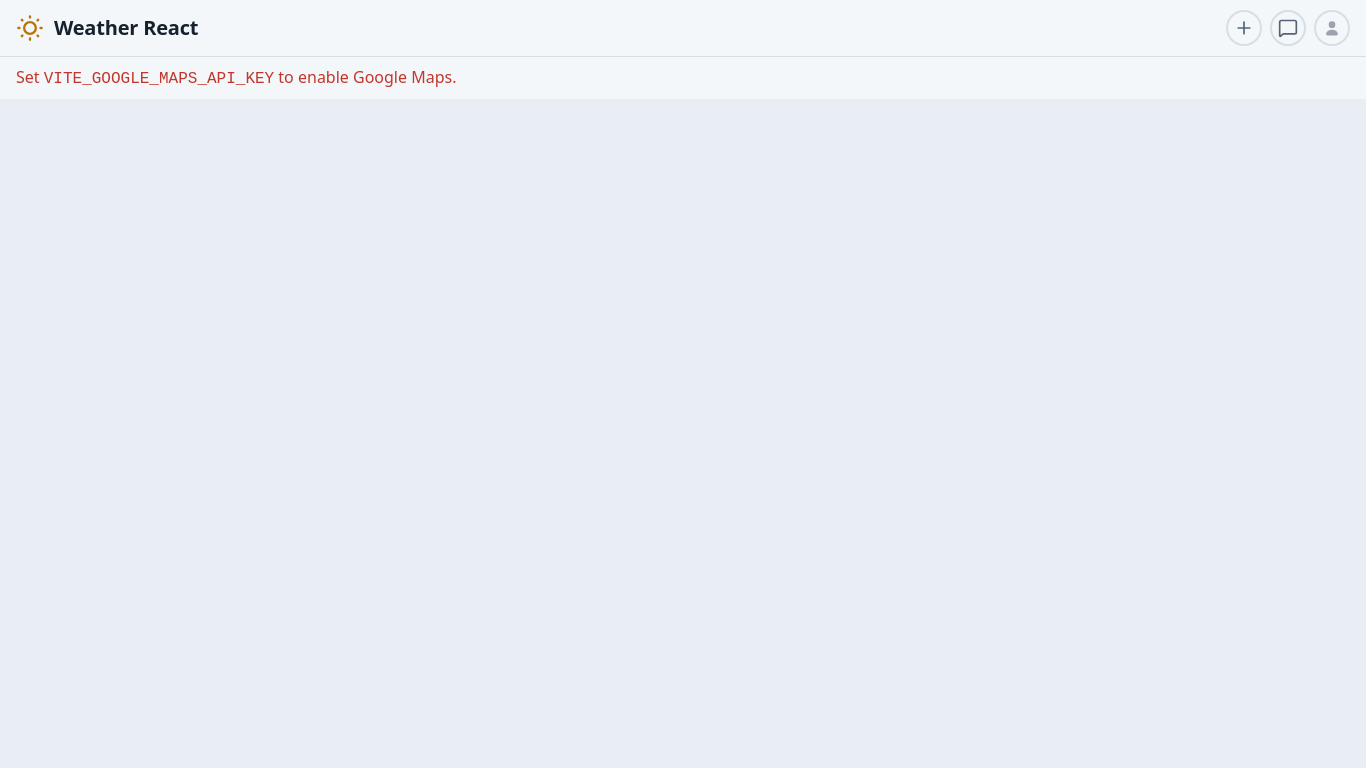
Test: AC1: sends go once each to /Chat5a/messages with the default gate fields and the session id
Click the button named "Open chat" at (1288, 28), box [1270,10,1306,46]
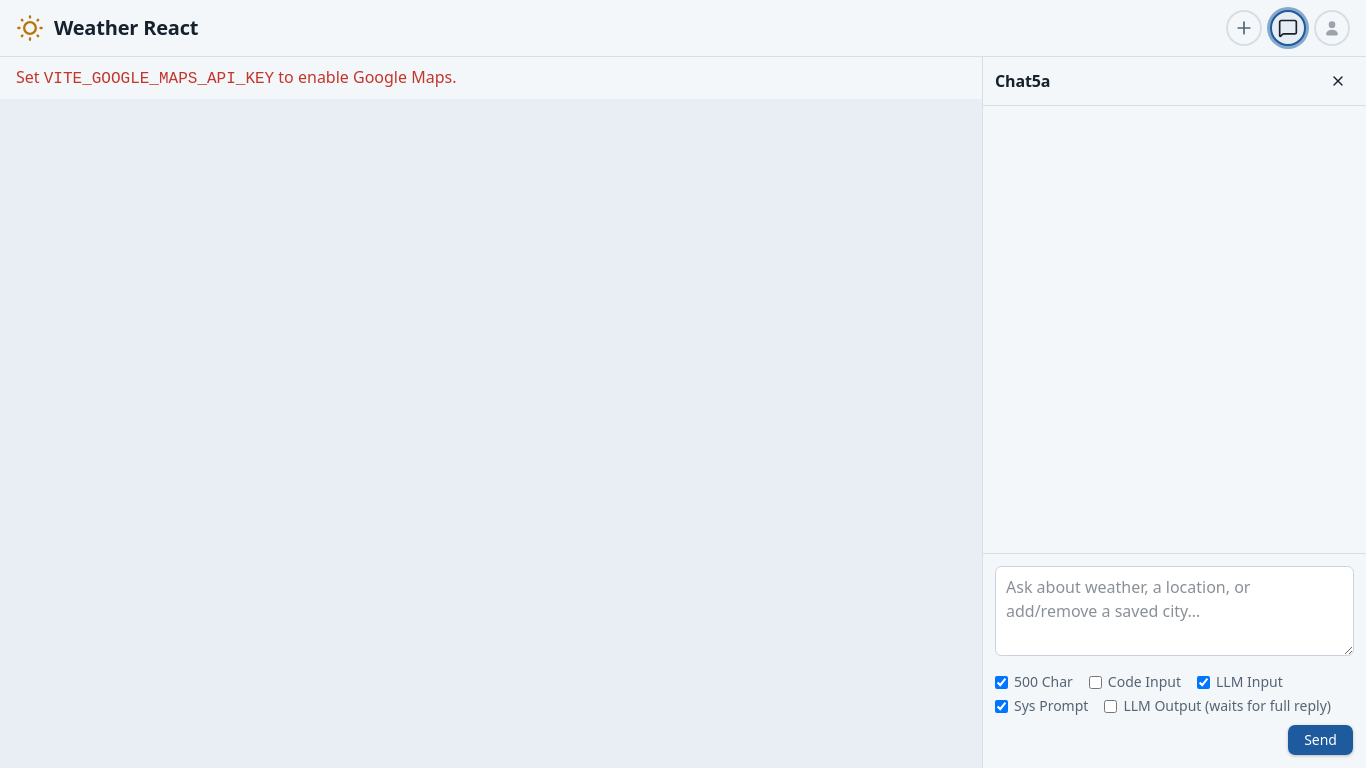
Check: the element "Chat5a" is shown, box [982,57,1365,767]
Type "Add Nashville" into the text box at (1174, 611), box [995,566,1354,656]
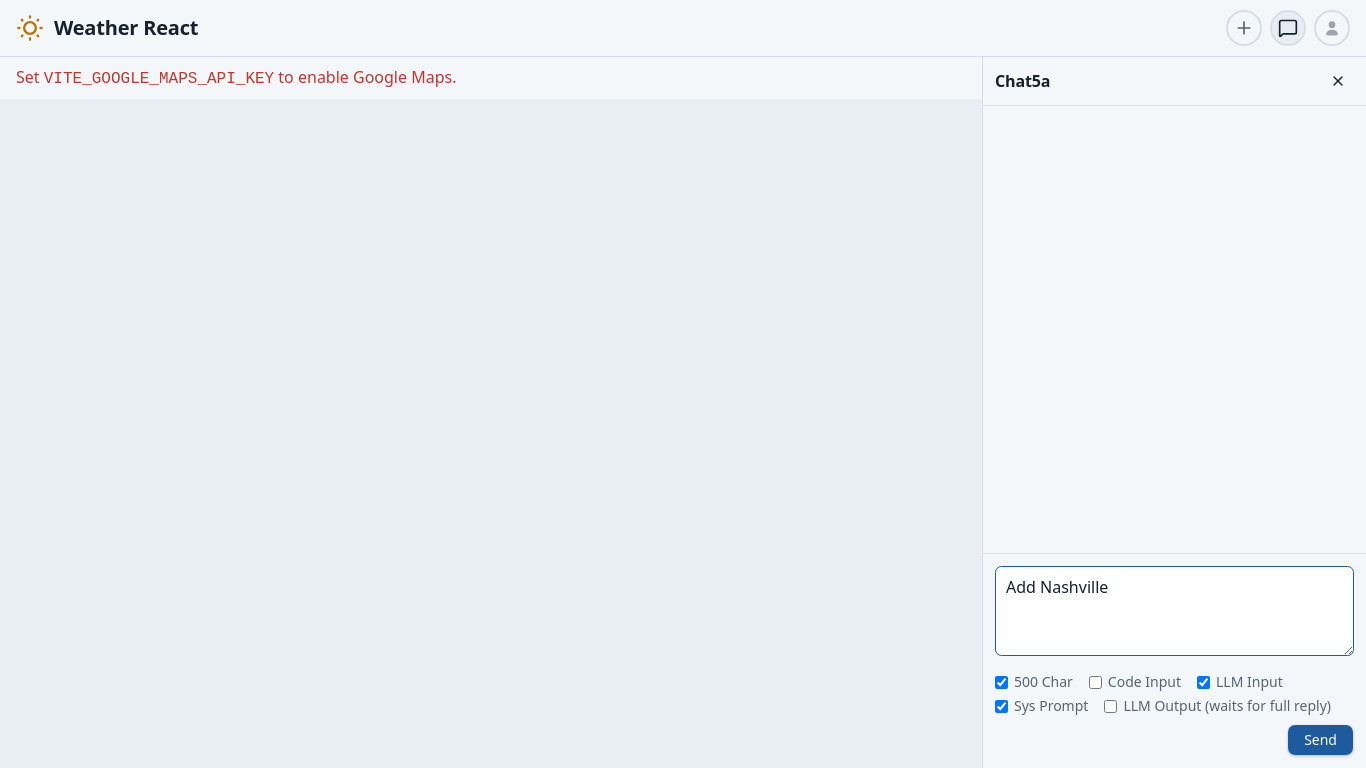
Click the button "Send" at (1321, 740), box [1287,724,1354,756]
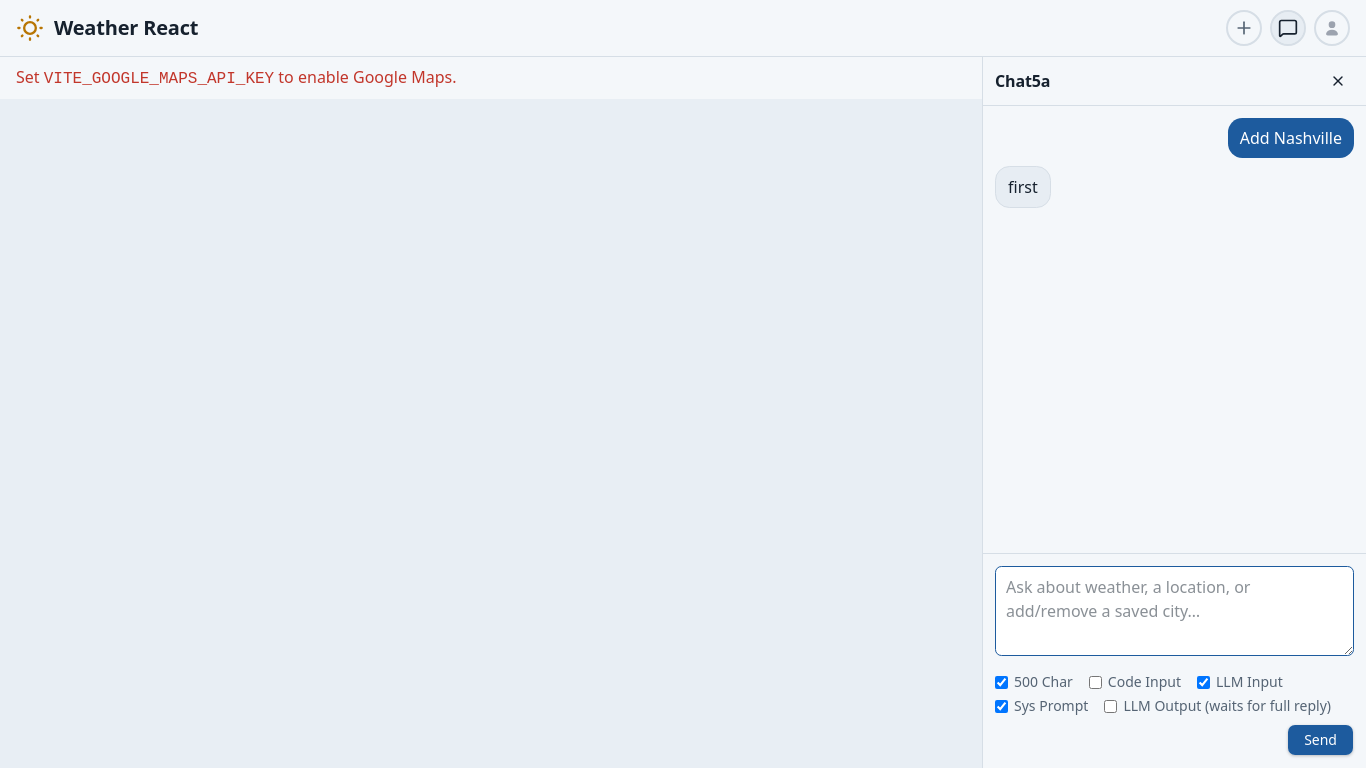
Check: the text "first" is shown, box [1008,175,1038,199]
Type "Remove Denver" into the text box at (1174, 611), box [995,566,1354,656]
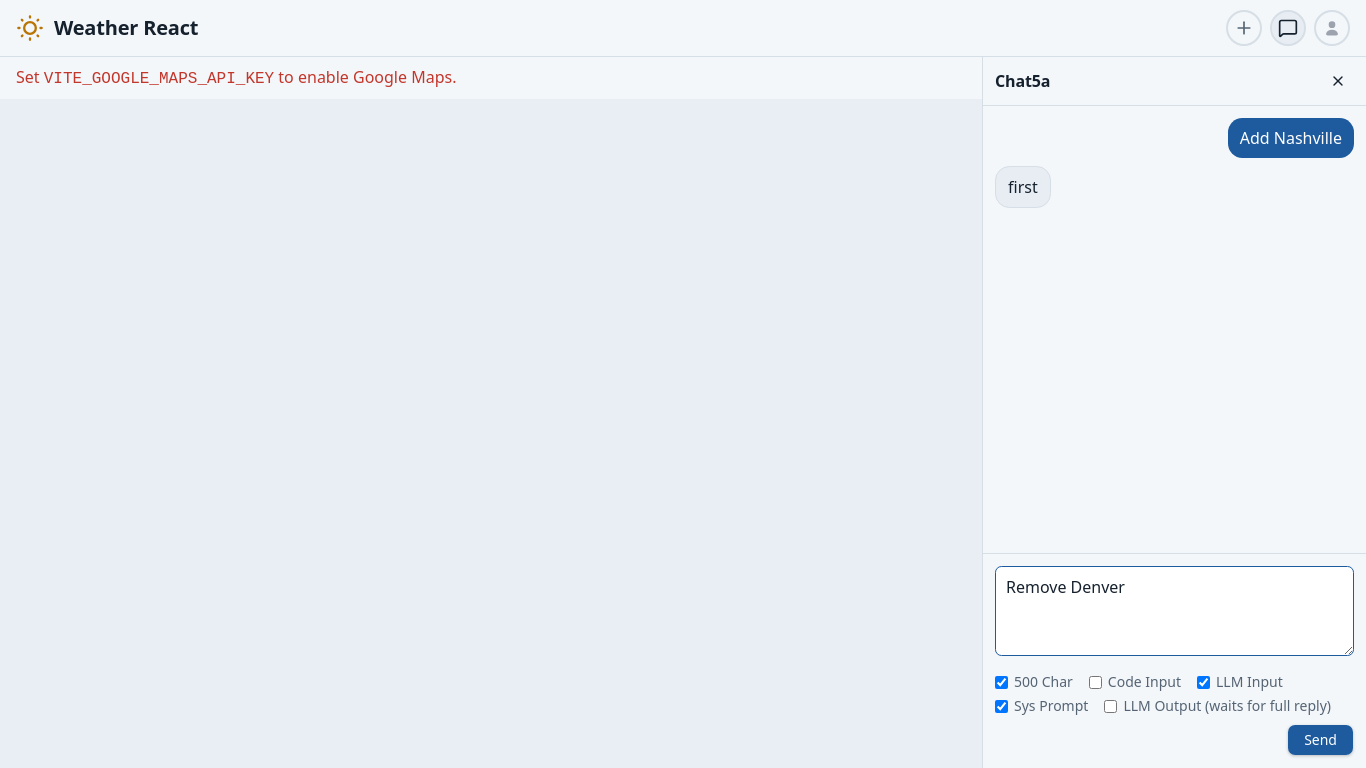
Click the button "Send" at (1321, 740), box [1287,724,1354,756]
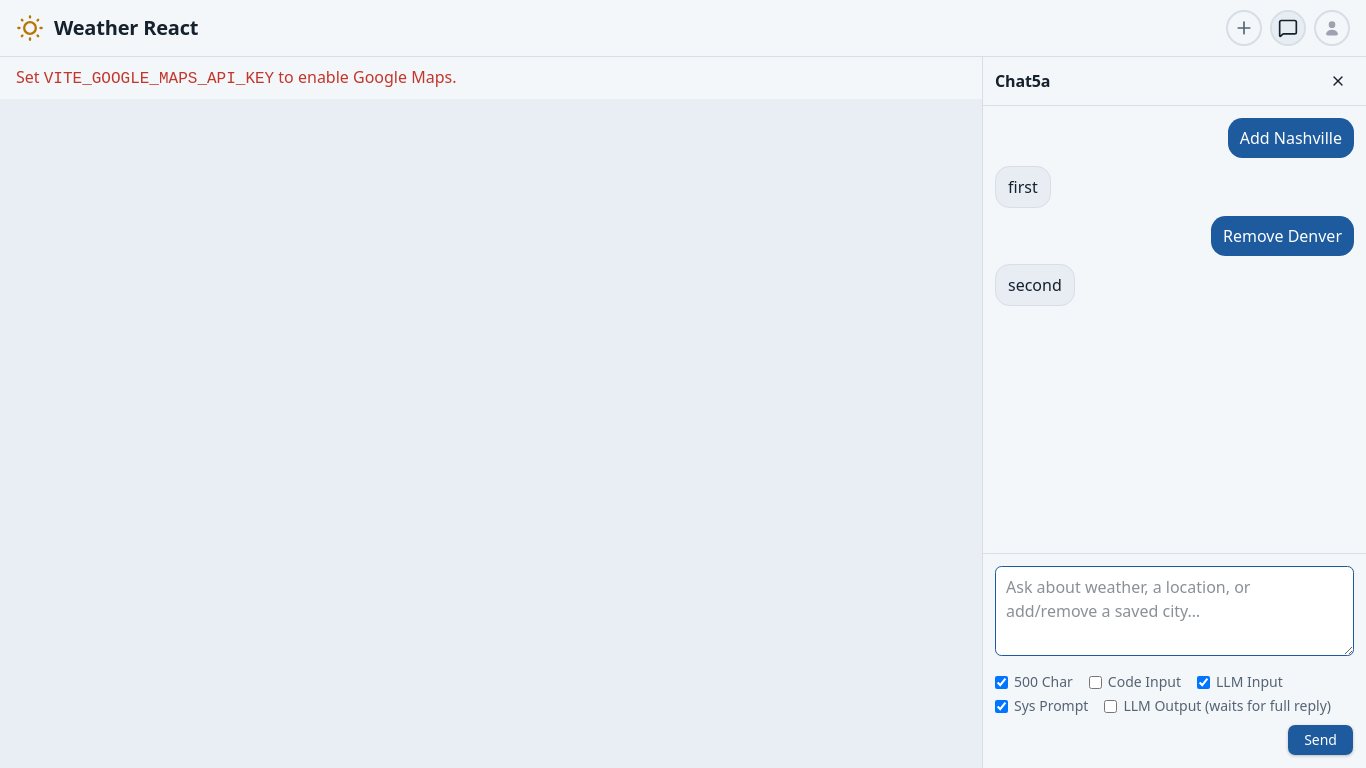
Check: the text "second" is shown, box [1008,273,1062,297]
